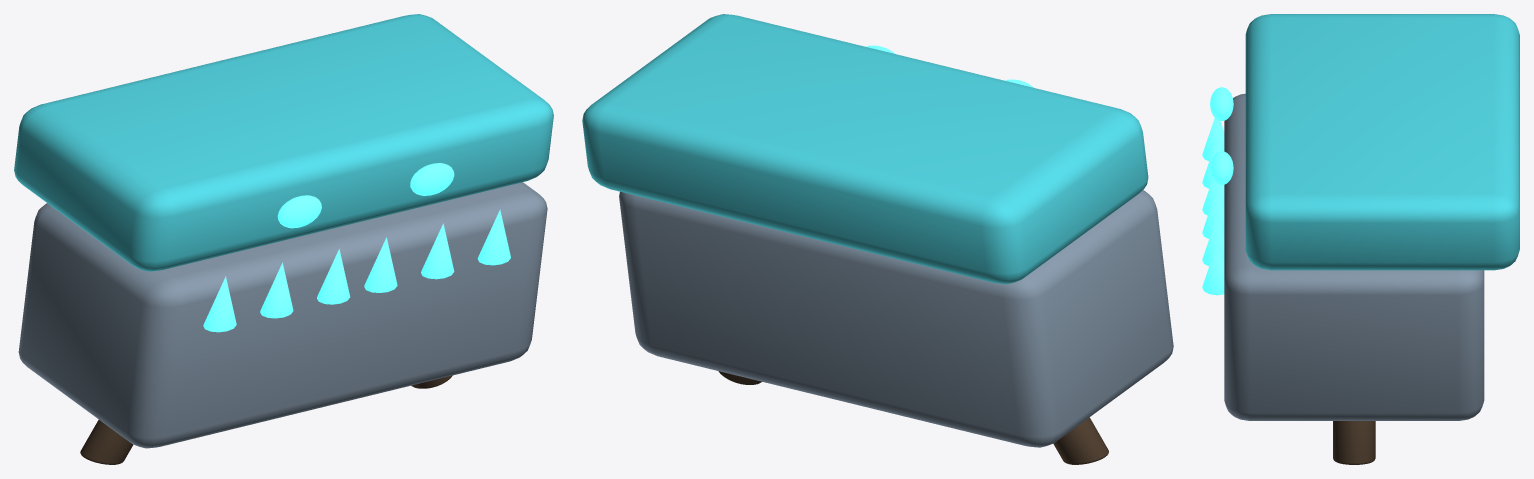
File: mimic_v5.glb
The picture shows the model from 3 angles, left to right: view 1: azimuth 30°, elevation 25°; view 2: azimuth 150°, elevation 25°; view 3: azimuth 270°, elevation 25°; orthographic projection. The views are drawn at different scales.
Visible parts, largest first — view 1: HINGED_LID_ACCENT, COFFER_BODY_PRIMARY, COFFER_LEG_SECONDARY, EYE_EMISSIVE, EYE_EMISSIVE.001, COFFER_TOOTH_EMISSIVE, COFFER_TOOTH_EMISSIVE.001, COFFER_TOOTH_EMISSIVE.005, COFFER_TOOTH_EMISSIVE.002, COFFER_TOOTH_EMISSIVE.004, COFFER_TOOTH_EMISSIVE.003; view 2: HINGED_LID_ACCENT, COFFER_BODY_PRIMARY, COFFER_LEG_SECONDARY; view 3: HINGED_LID_ACCENT, COFFER_BODY_PRIMARY, COFFER_LEG_SECONDARY.001, COFFER_TOOTH_EMISSIVE.005, EYE_EMISSIVE, EYE_EMISSIVE.001, COFFER_TOOTH_EMISSIVE.003, COFFER_TOOTH_EMISSIVE.004, COFFER_TOOTH_EMISSIVE, COFFER_TOOTH_EMISSIVE.002.
Boxes of the visible parts, bbox=[...] form: HINGED_LID_ACCENT: bbox=[14, 14, 553, 271]; COFFER_BODY_PRIMARY: bbox=[18, 182, 547, 448]; COFFER_LEG_SECONDARY: bbox=[80, 419, 132, 464]; EYE_EMISSIVE: bbox=[277, 195, 321, 228]; EYE_EMISSIVE.001: bbox=[410, 163, 454, 195]; COFFER_TOOTH_EMISSIVE: bbox=[203, 276, 236, 332]; COFFER_TOOTH_EMISSIVE.001: bbox=[260, 262, 293, 318]; COFFER_TOOTH_EMISSIVE.005: bbox=[477, 209, 510, 265]; COFFER_TOOTH_EMISSIVE.002: bbox=[317, 249, 350, 304]; COFFER_TOOTH_EMISSIVE.004: bbox=[421, 223, 454, 279]; COFFER_TOOTH_EMISSIVE.003: bbox=[364, 237, 397, 292]; HINGED_LID_ACCENT: bbox=[582, 14, 1148, 284]; COFFER_BODY_PRIMARY: bbox=[619, 190, 1173, 447]; COFFER_LEG_SECONDARY: bbox=[1053, 417, 1108, 464]; HINGED_LID_ACCENT: bbox=[1245, 14, 1519, 270]; COFFER_BODY_PRIMARY: bbox=[1224, 93, 1484, 420]; COFFER_LEG_SECONDARY.001: bbox=[1333, 421, 1375, 464]; COFFER_TOOTH_EMISSIVE.005: bbox=[1202, 243, 1224, 295]; EYE_EMISSIVE: bbox=[1210, 87, 1233, 120]; EYE_EMISSIVE.001: bbox=[1210, 151, 1233, 184]; COFFER_TOOTH_EMISSIVE.003: bbox=[1202, 188, 1224, 238]; COFFER_TOOTH_EMISSIVE.004: bbox=[1202, 216, 1224, 266]; COFFER_TOOTH_EMISSIVE: bbox=[1202, 118, 1224, 161]; COFFER_TOOTH_EMISSIVE.002: bbox=[1202, 179, 1224, 215].
Size of the model in its own units: 2.35 by 1.55 by 1.5.
